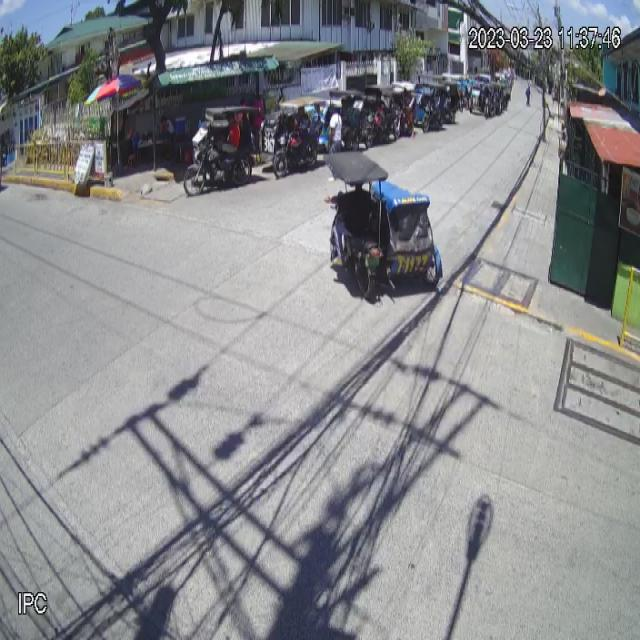Tricycle: (324, 152, 443, 300)
